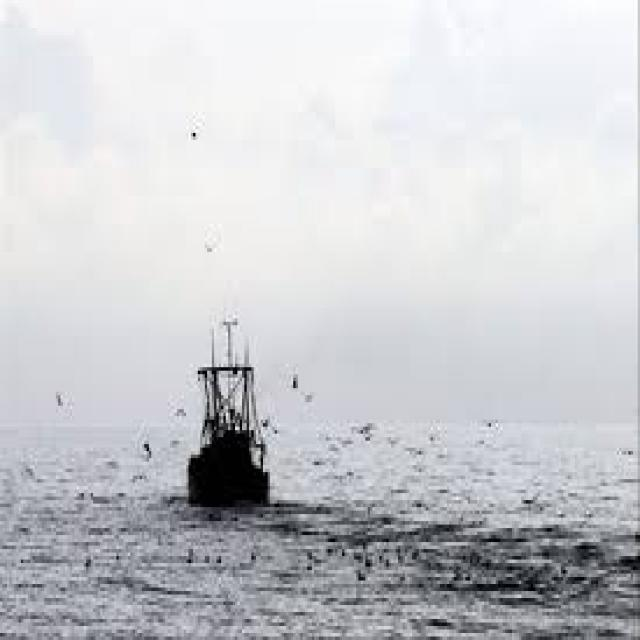fishing boat: (184, 314, 279, 524)
